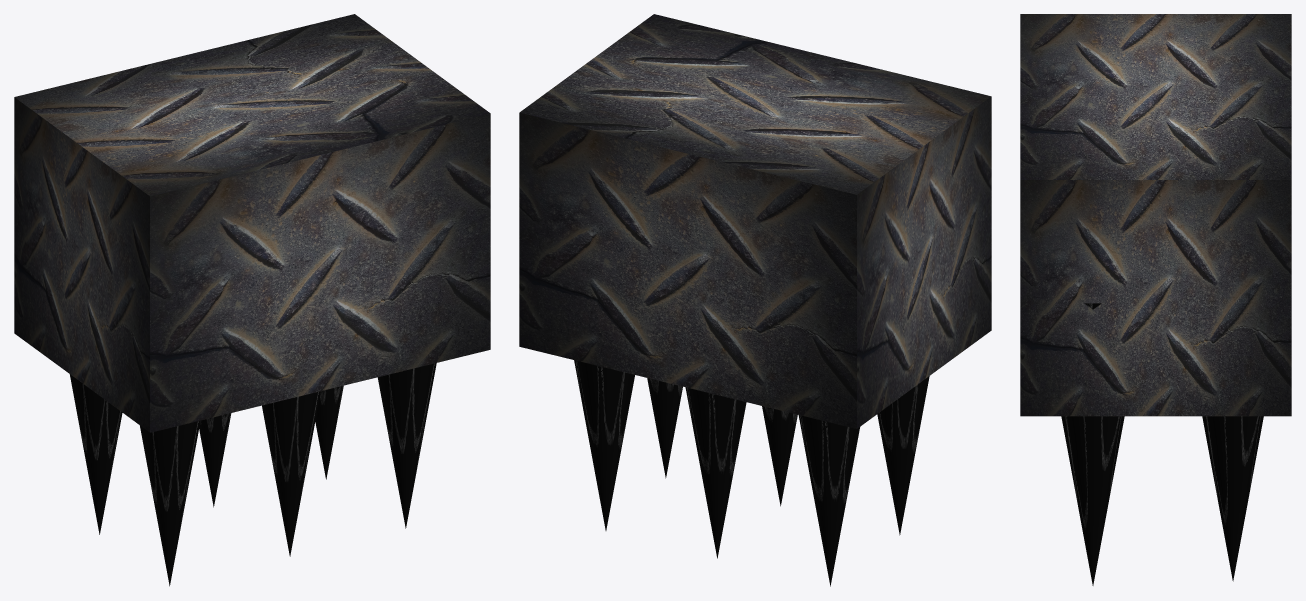
File: toge.FBX
3 views of the same model, side by side, from view 1: azimuth 30°, elevation 25°; view 2: azimuth 150°, elevation 25°; view 3: azimuth 270°, elevation 25° (orthographic).
Visible parts, largest first — view 1: Box001, Cone004, Cone005, Cone006, Cone003, Cone002, Cone001; view 2: Box001, Cone003, Cone002, Cone001, Cone004, Cone005, Cone006; view 3: Box001, Cone006, Cone001.
Part boxes in pixels (x1,y1,x2,y2): Box001: [14, 14, 490, 432]; Cone004: [140, 420, 200, 586]; Cone005: [262, 391, 320, 556]; Cone006: [377, 363, 436, 528]; Cone003: [69, 374, 122, 534]; Cone002: [199, 413, 231, 507]; Cone001: [315, 385, 343, 479]; Box001: [519, 14, 991, 428]; Cone003: [798, 415, 859, 586]; Cone002: [685, 387, 746, 558]; Cone001: [574, 360, 634, 530]; Cone004: [877, 376, 929, 535]; Cone005: [762, 406, 797, 506]; Cone006: [647, 378, 682, 478]; Box001: [1020, 14, 1291, 416]; Cone006: [1061, 303, 1124, 585]; Cone001: [1202, 416, 1263, 581].
Bounding box in the file's own units: 1204 × 829 × 1450.
